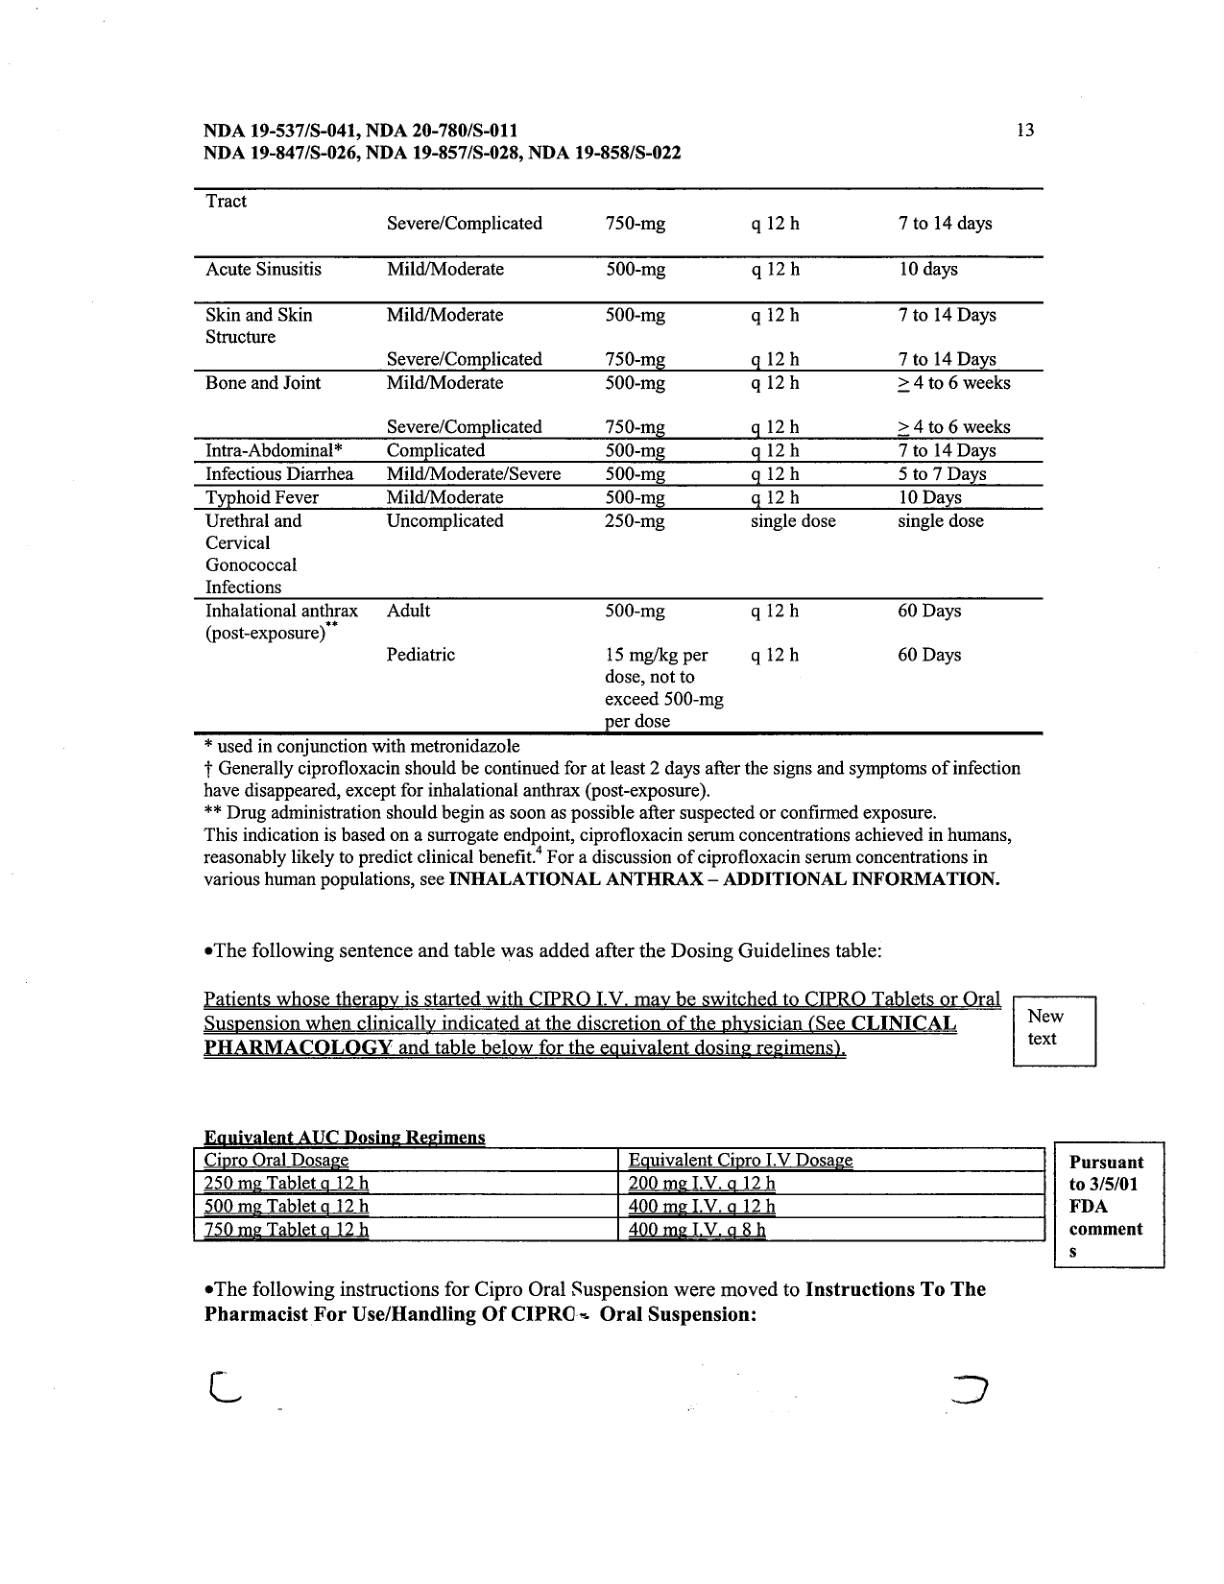full_lined: (192, 1146, 1048, 1243)
partial_lined: (192, 184, 1049, 737)
